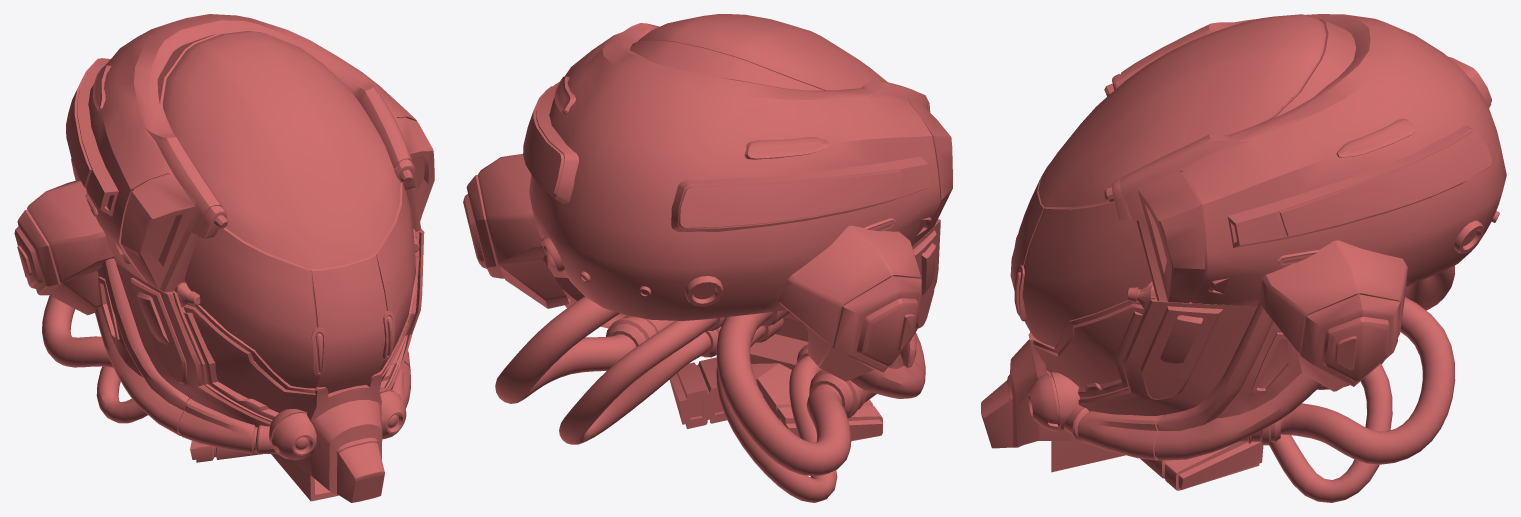
The model's file is helmet.obj.
3 views of the same model, side by side, from view 1: azimuth 30°, elevation 25°; view 2: azimuth 150°, elevation 25°; view 3: azimuth 270°, elevation 25° (orthographic). The views are drawn at different scales.
Parts seen in each view (by area): view 1: node_damagedHelmet_-6514; view 2: node_damagedHelmet_-6514; view 3: node_damagedHelmet_-6514.
Part boxes in pixels (left/top/right/bottom): node_damagedHelmet_-6514: left=14, top=14, right=434, bottom=502; node_damagedHelmet_-6514: left=463, top=14, right=952, bottom=502; node_damagedHelmet_-6514: left=981, top=14, right=1506, bottom=502.
Size of the model in its own units: 1.89 by 1.8 by 2.
